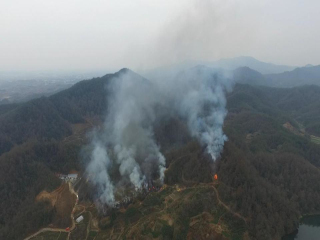smoke: (73, 7, 233, 212)
